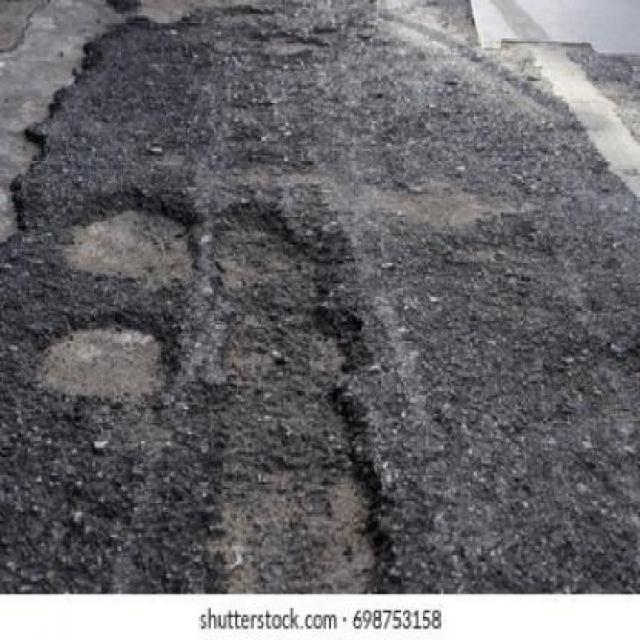pothole: (211, 196, 397, 595), (29, 313, 175, 406), (61, 196, 200, 289)
